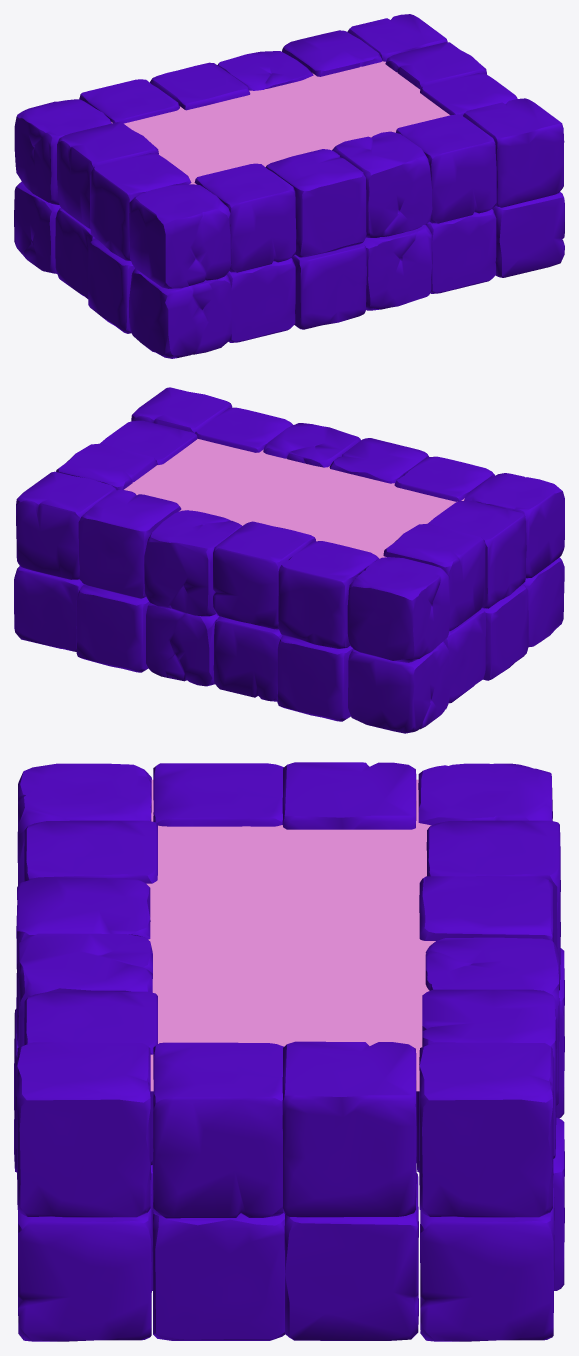
File: basic_bloc02.fbx
The picture shows the model from 3 angles, top to bottom: view 1: azimuth 30°, elevation 25°; view 2: azimuth 150°, elevation 25°; view 3: azimuth 270°, elevation 25°; orthographic projection. The views are drawn at different scales.
Visible parts, largest first — view 1: basic_bloc02; view 2: basic_bloc02; view 3: basic_bloc02.
Part boxes in pixels (left/top/right/bottom): basic_bloc02: left=14, top=14, right=564, bottom=358; basic_bloc02: left=14, top=387, right=564, bottom=733; basic_bloc02: left=14, top=762, right=564, bottom=1341.
Bounding box in the file's own units: 9.02 × 3.07 × 6.13.
